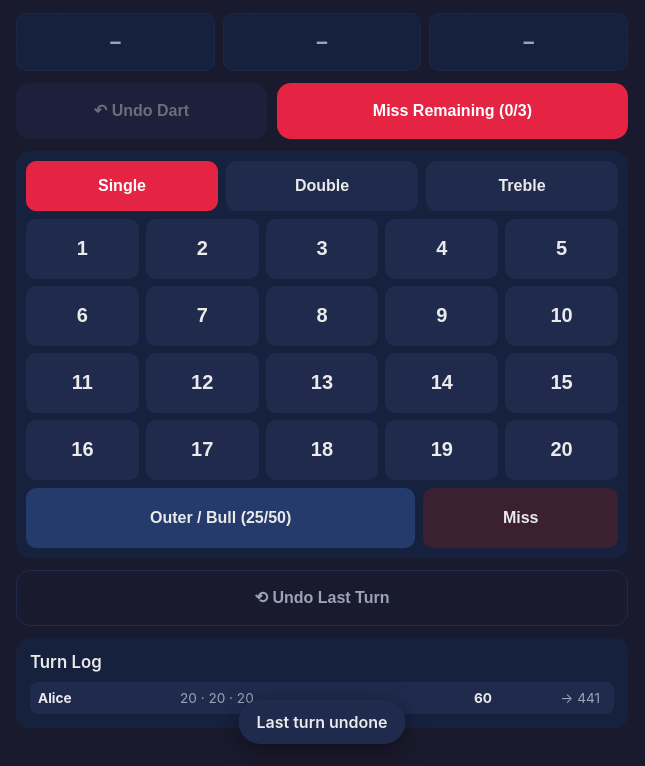
Scenario: screens render without crashing › Live disarms the undo confirm when another input arrives
The width and height of the screenshot is (645, 766).
(page scrolled)
Click the button "⟲ Undo Last Turn": [322, 598] box [16,570,628,626]
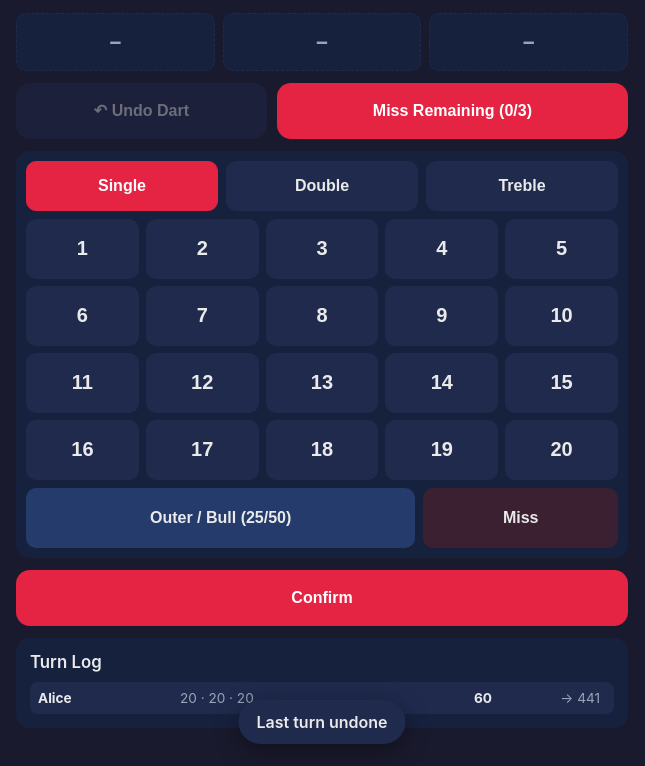
Expected: the button "Confirm" is shown, [16,570,628,626]
Note: Entering a dart signals the player is scoring, not undoing — disarm.
Click the button "20": [562, 450] box [505,420,618,480]
(page scrolled)
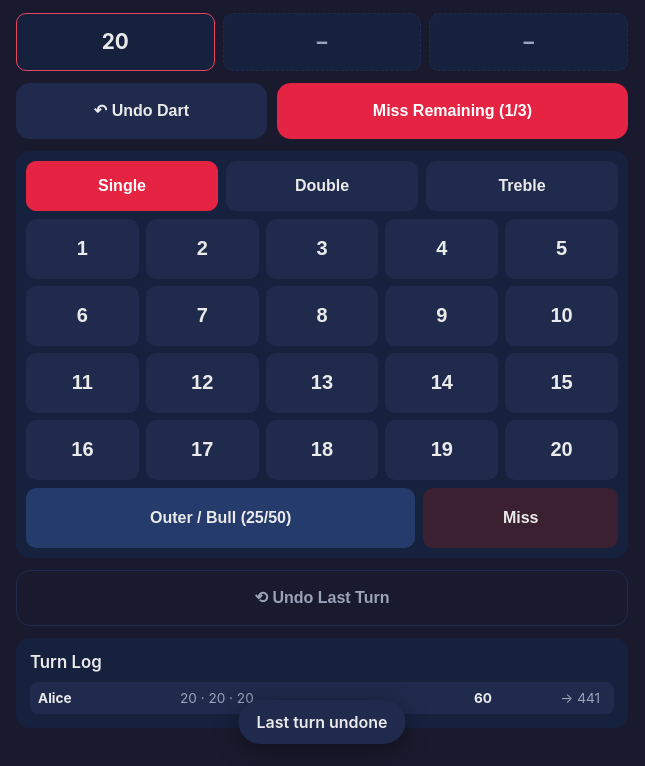
Expected: the button "Confirm" is gone
Expected: the button "⟲ Undo Last Turn" is shown, [16,570,628,626]
